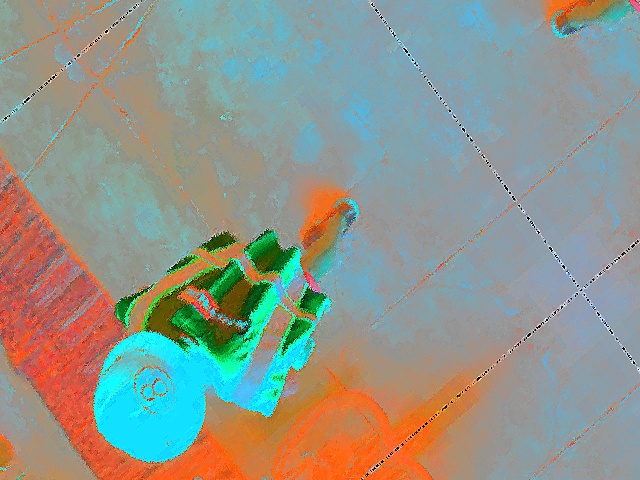eight: (124, 357, 184, 423)
